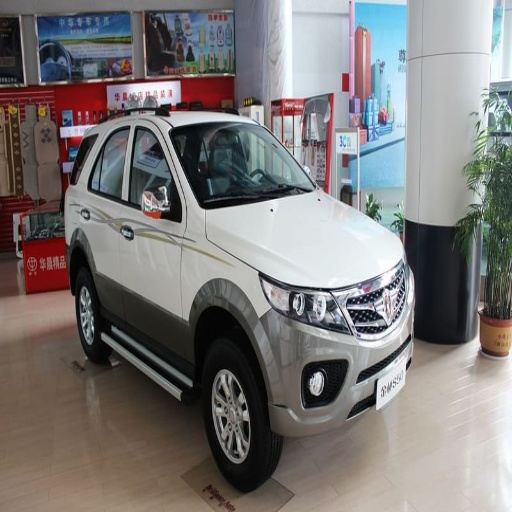front_bumper: (254, 262, 413, 431)
front_right_door: (122, 121, 186, 359)
front_right_light: (262, 278, 350, 331)
